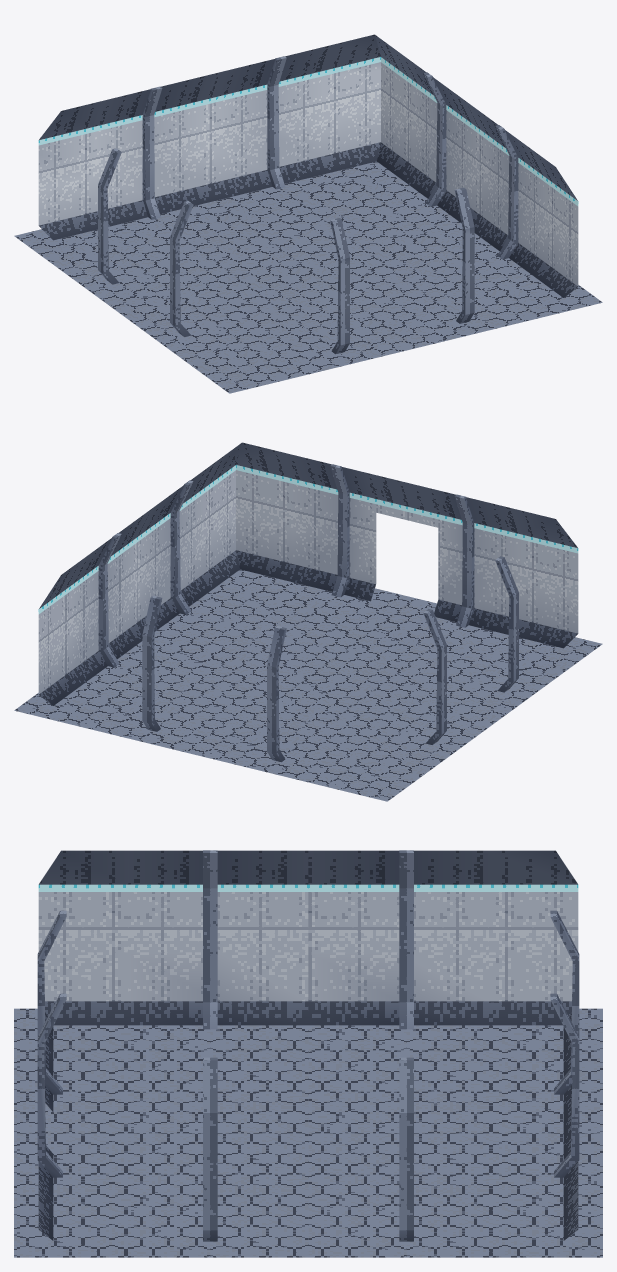
File: stn.room.glb
3 views of the same model, one above another, from view 1: azimuth 30°, elevation 25°; view 2: azimuth 150°, elevation 25°; view 3: azimuth 270°, elevation 25° (orthographic). The views are drawn at different scales.
Parts seen in each view (by area): view 1: kit_shell_floor, kit_shell_walls, kit_ribs; view 2: kit_shell_floor, kit_shell_walls, kit_ribs; view 3: kit_shell_floor, kit_shell_walls, kit_ribs.
Boxes of the visible parts, left/top/right/bottom form: kit_shell_floor: left=14, top=161, right=602, bottom=393; kit_shell_walls: left=38, top=34, right=578, bottom=297; kit_ribs: left=98, top=56, right=518, bottom=354; kit_shell_floor: left=14, top=569, right=602, bottom=801; kit_shell_walls: left=38, top=442, right=578, bottom=705; kit_ribs: left=98, top=464, right=518, bottom=762; kit_shell_floor: left=14, top=1008, right=602, bottom=1257; kit_shell_walls: left=38, top=850, right=578, bottom=1240; kit_ribs: left=37, top=850, right=579, bottom=1241.
Bounding box in the file's own units: 12 × 4.01 × 12.
Materials: 5 (5 with a texture image).
